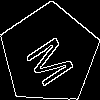M: (24, 29, 83, 89)
